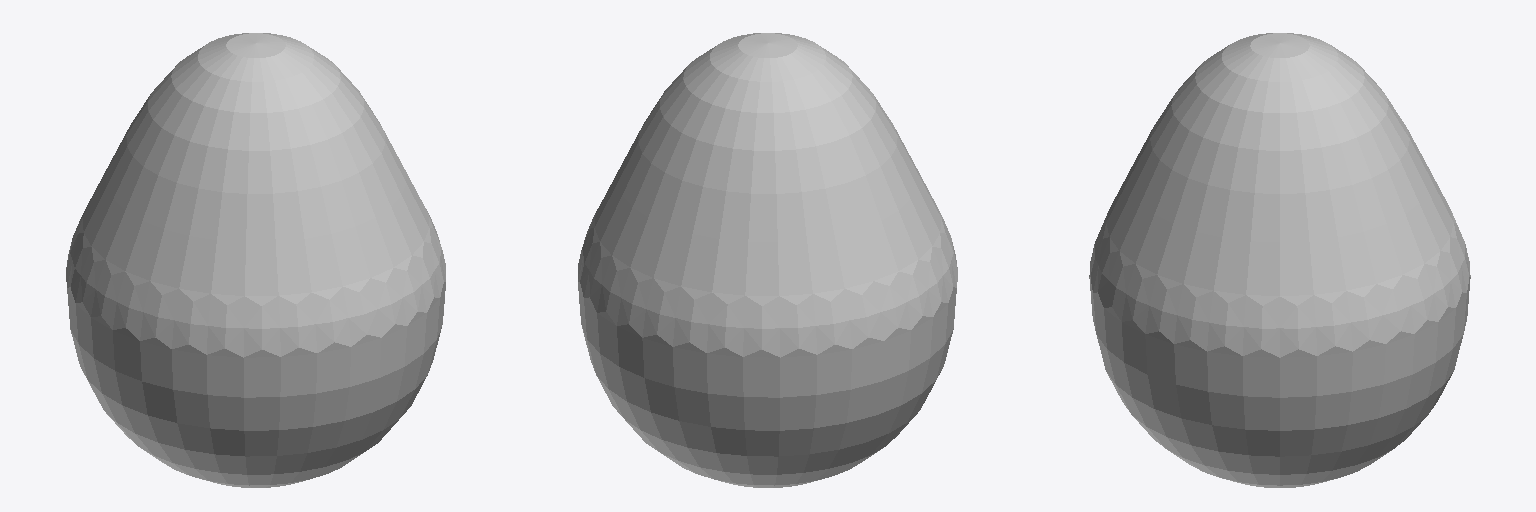
The picture shows the model from 3 angles: view 1: azimuth 30°, elevation 25°; view 2: azimuth 150°, elevation 25°; view 3: azimuth 270°, elevation 25°; orthographic projection.
Parts seen in each view (by area): view 1: Pear_Sphere.001; view 2: Pear_Sphere.001; view 3: Pear_Sphere.001.
Part boxes in pixels (left/top/right/bottom): Pear_Sphere.001: left=66, top=33, right=445, bottom=487; Pear_Sphere.001: left=578, top=33, right=957, bottom=487; Pear_Sphere.001: left=1089, top=33, right=1470, bottom=487.
Size of the model in its own units: 0.945 by 1.16 by 0.945.